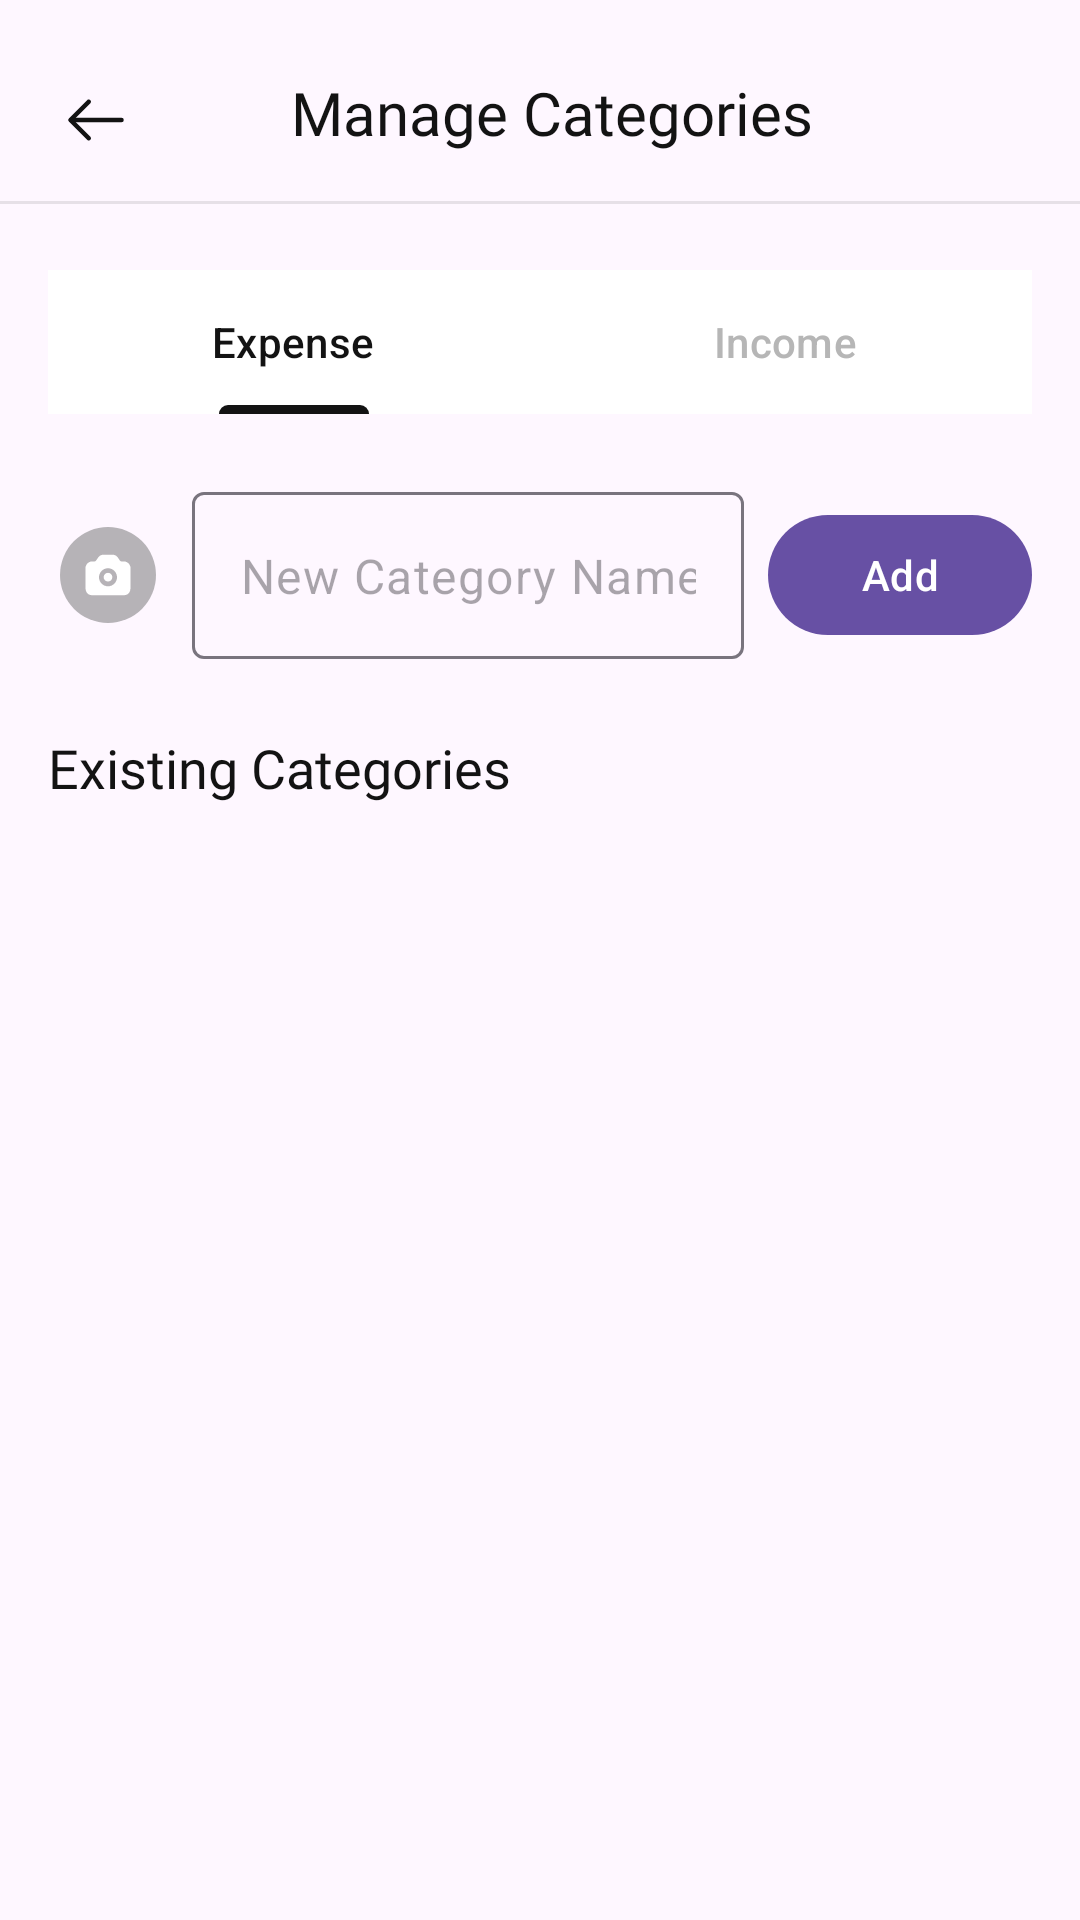

Icons on this 1080 × 1920 Android screen, each with its box as (x1, y1, x2, y2):
back: (68, 99, 124, 141)
camera: (60, 527, 156, 623)
